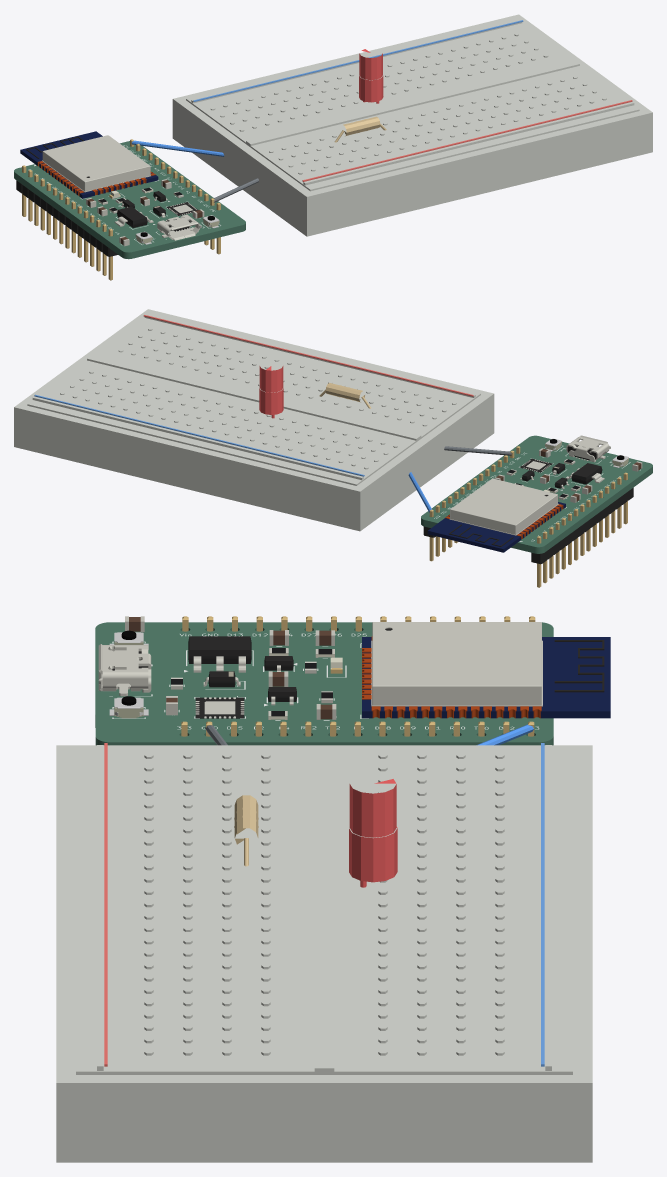
File: esp32-led-assembly.glb
3 renders of one model, top to bottom at view 1: azimuth 30°, elevation 25°; view 2: azimuth 150°, elevation 25°; view 3: azimuth 270°, elevation 25°, orthographic. The views are drawn at different scales.
Parts seen in each view (by area): view 1: BREADBOARD, =>[0:1:1:14], U1, J3, LED_EXT, BREADBOARD_RAIL_RED, BREADBOARD_RAIL_BLUE, J1, J2, U2, R_LED, WIRE_GPIO23; view 2: BREADBOARD, =>[0:1:1:14], U1, J3, LED_EXT, J2, BREADBOARD_RAIL_BLUE, BREADBOARD_RAIL_RED, J1, U2, R_LED; view 3: BREADBOARD, =>[0:1:1:14], U1, LED_EXT, J1, U2, J2, BREADBOARD_RAIL_RED, BREADBOARD_RAIL_BLUE, J3, U3, R_LED (+1 smaller).
Part boxes in pixels (x1=…): BREADBOARD: x1=172, y1=14, x2=652, y2=236; =>[0:1:1:14]: x1=14, y1=141, x2=245, y2=259; U1: x1=20, y1=131, x2=158, y2=198; J3: x1=16, y1=165, x2=117, y2=280; LED_EXT: x1=359, y1=49, x2=383, y2=103; BREADBOARD_RAIL_RED: x1=302, y1=100, x2=632, y2=181; BREADBOARD_RAIL_BLUE: x1=193, y1=20, x2=523, y2=101; J1: x1=157, y1=214, x2=201, y2=240; J2: x1=130, y1=139, x2=220, y2=254; U2: x1=114, y1=206, x2=153, y2=227; R_LED: x1=334, y1=116, x2=386, y2=142; WIRE_GPIO23: x1=131, y1=140, x2=224, y2=156; BREADBOARD: x1=14, y1=309, x2=494, y2=531; =>[0:1:1:14]: x1=421, y1=435, x2=652, y2=553; U1: x1=427, y1=478, x2=565, y2=552; J3: x1=531, y1=472, x2=633, y2=587; LED_EXT: x1=259, y1=366, x2=283, y2=418; J2: x1=423, y1=446, x2=520, y2=561; BREADBOARD_RAIL_BLUE: x1=34, y1=394, x2=364, y2=476; BREADBOARD_RAIL_RED: x1=143, y1=315, x2=473, y2=396; J1: x1=566, y1=435, x2=610, y2=462; U2: x1=566, y1=463, x2=604, y2=484; R_LED: x1=319, y1=383, x2=371, y2=408; BREADBOARD: x1=56, y1=745, x2=592, y2=1162; =>[0:1:1:14]: x1=95, y1=622, x2=553, y2=745; U1: x1=362, y1=622, x2=610, y2=718; LED_EXT: x1=349, y1=779, x2=397, y2=887; J1: x1=98, y1=644, x2=151, y2=696; U2: x1=188, y1=636, x2=251, y2=672; J2: x1=181, y1=721, x2=534, y2=736; BREADBOARD_RAIL_RED: x1=104, y1=743, x2=107, y2=1066; BREADBOARD_RAIL_BLUE: x1=541, y1=743, x2=544, y2=1066; J3: x1=182, y1=616, x2=535, y2=631; U3: x1=195, y1=697, x2=244, y2=718; R_LED: x1=234, y1=795, x2=258, y2=866.
Bounding box in the file's own units: 0.1226 × 0.0266 × 0.0568.
